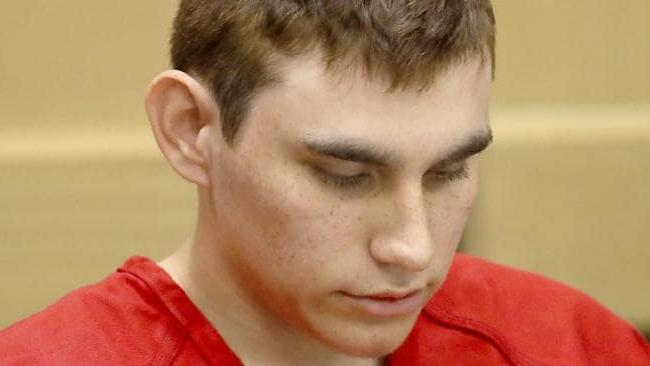Sober: (237, 63, 484, 331)
